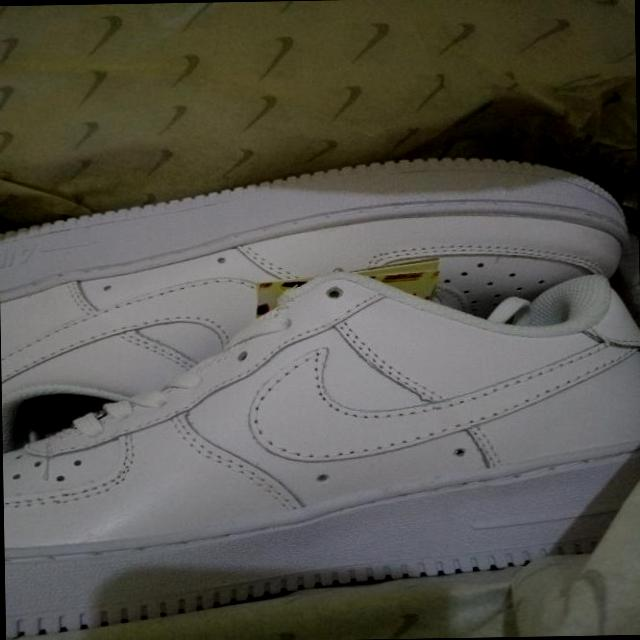nike_fake_airforce: (0, 265, 640, 638), (0, 106, 638, 415)
